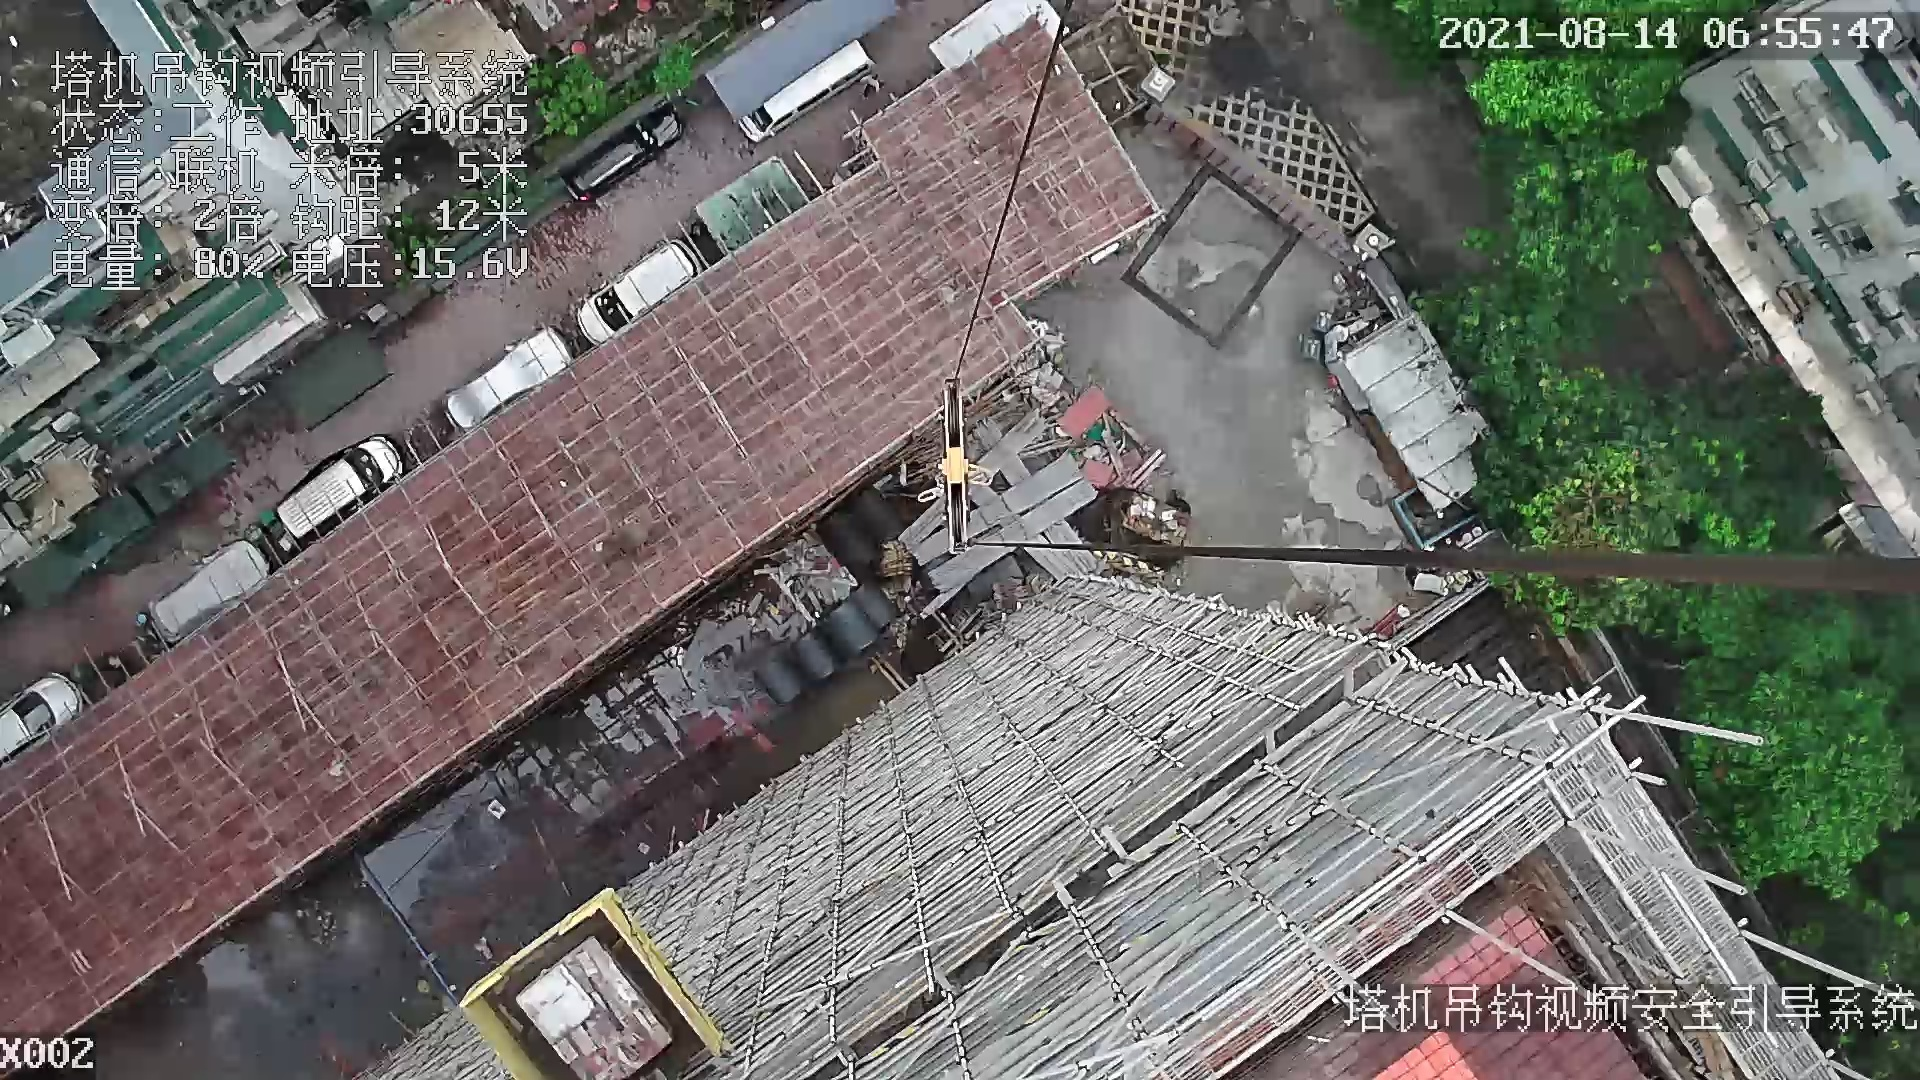board: (517, 938, 673, 1080)
hook: (935, 382, 1000, 559)
rebar: (899, 410, 1048, 549), (928, 480, 1098, 596), (910, 454, 1081, 568), (1042, 520, 1096, 570), (1025, 535, 1075, 578)
